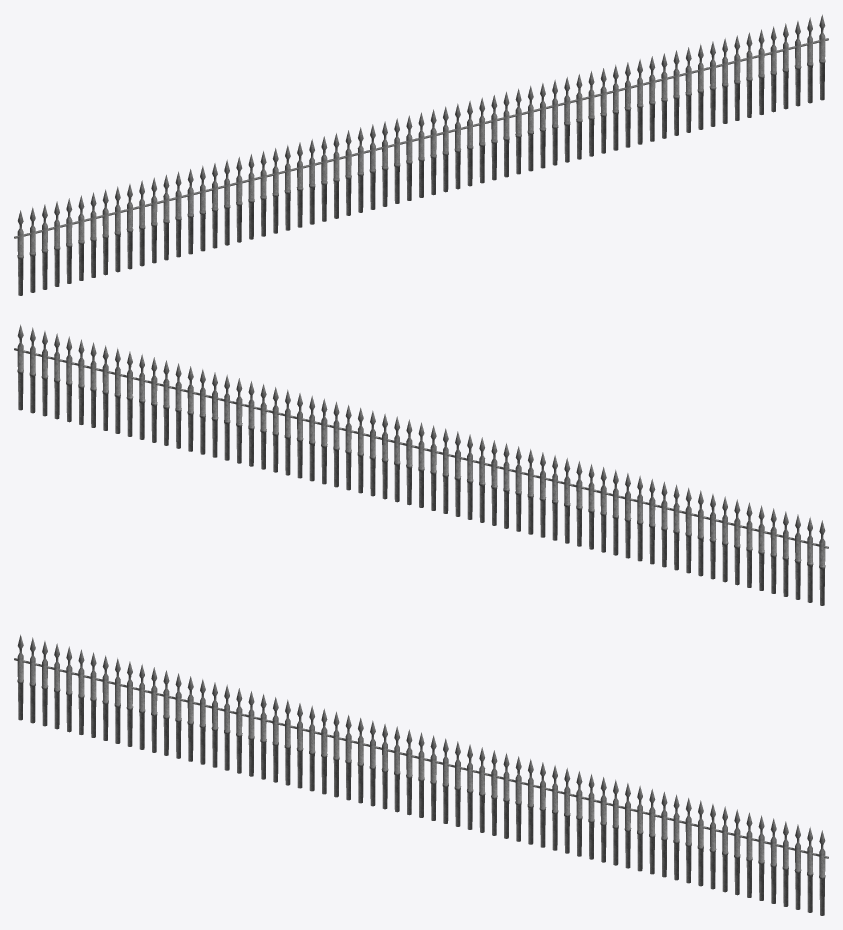
The model's file is fence_2.glb.
3 renders of one model, top to bottom at view 1: azimuth 30°, elevation 25°; view 2: azimuth 150°, elevation 25°; view 3: azimuth 330°, elevation 25°, orthographic.
Visible parts, largest first — view 1: Fence; view 2: Fence; view 3: Fence.
Part boxes in pixels (bbox=[...]): Fence: bbox=[14, 14, 828, 295]; Fence: bbox=[14, 324, 828, 605]; Fence: bbox=[14, 634, 828, 915].
Size of what is drawn, in the model's own units: 25.95 by 2.6 by 0.187.
1 material, 1 textured.
